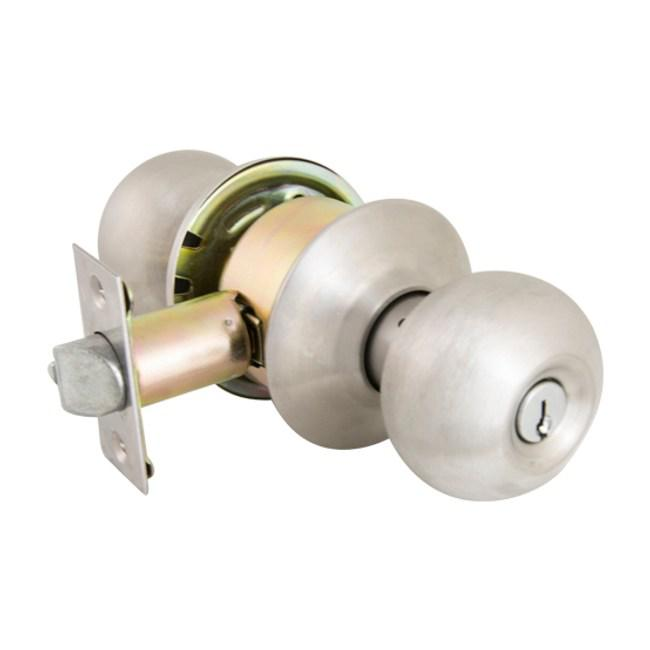doorhandle: (302, 229, 618, 543)
